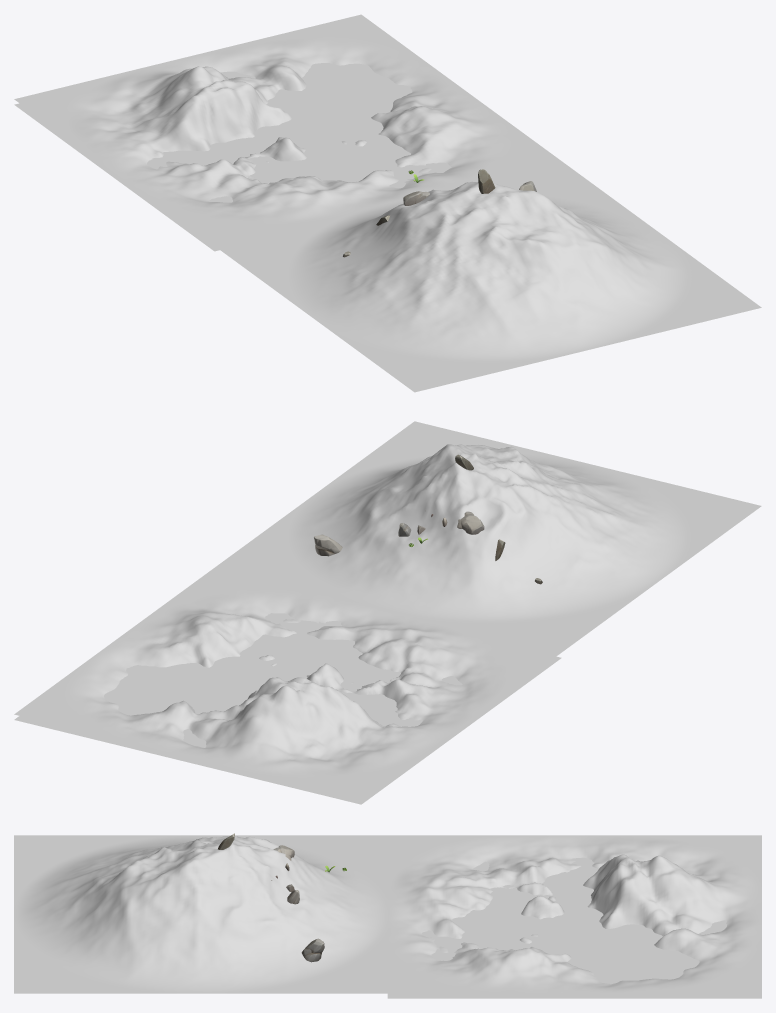
The model's file is allassets.glb.
3 renders of one model, top to bottom at view 1: azimuth 30°, elevation 25°; view 2: azimuth 150°, elevation 25°; view 3: azimuth 270°, elevation 25°, orthographic. The views are drawn at different scales.
Parts seen in each view (by area): view 1: Landscape.001, Landscape, Landscape_plane; view 2: Landscape.001, Landscape, Landscape_plane; view 3: Landscape.001, Landscape, Landscape_plane, SM_Rocks_04.
Part boxes in pixels (bbox=[...]): Landscape.001: bbox=[215, 161, 761, 392]; Landscape: bbox=[14, 14, 561, 245]; Landscape_plane: bbox=[14, 63, 451, 251]; Landscape.001: bbox=[214, 421, 761, 652]; Landscape: bbox=[14, 568, 561, 799]; Landscape_plane: bbox=[14, 613, 561, 804]; Landscape.001: bbox=[14, 835, 388, 993]; Landscape: bbox=[387, 835, 761, 993]; Landscape_plane: bbox=[387, 857, 761, 998]; SM_Rocks_04: bbox=[301, 938, 324, 962].
Size of the model in its own units: 2 by 0.6061 by 3.99.
4 materials, 4 textured.
